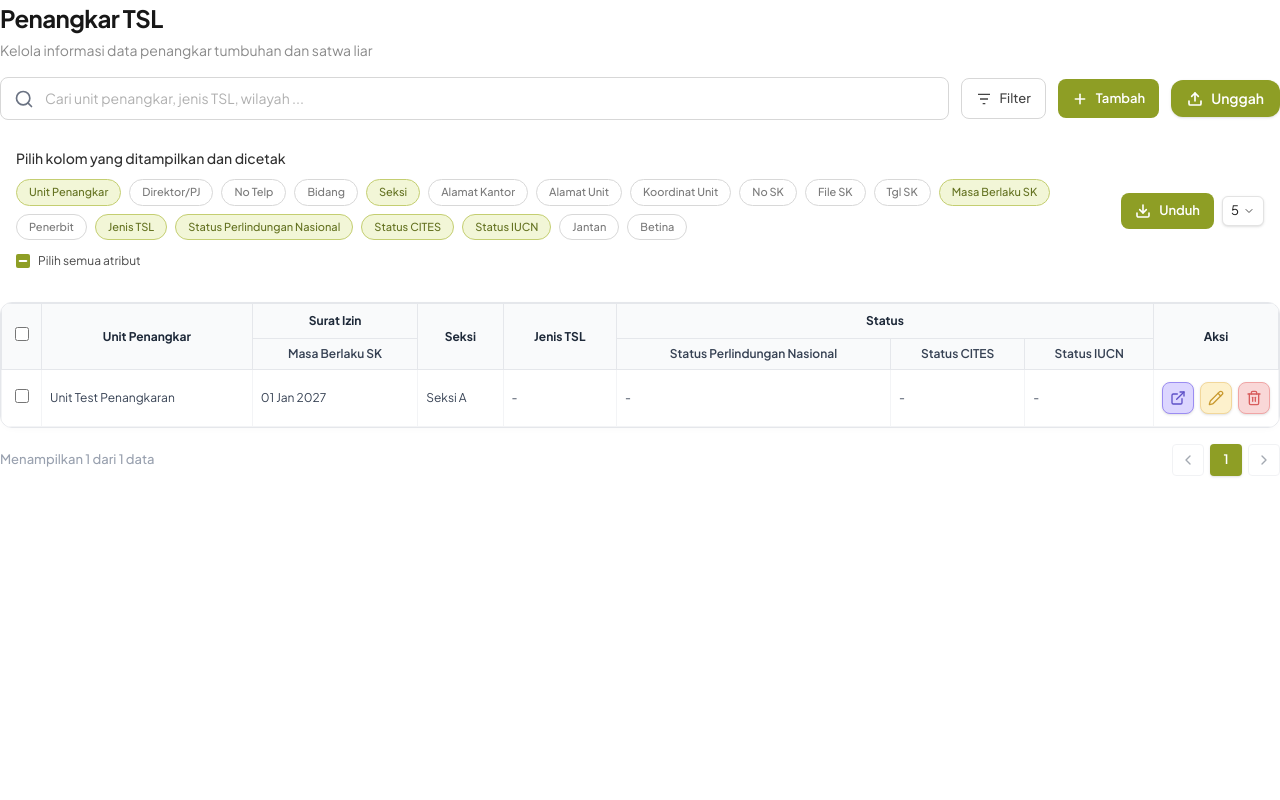
Scenario: Penangkaran Export Feature › membuka modal pratinjau saat tombol Unduh diklik
Expected: the text "Unit Test Penangkaran" is shown, [42,370,252,426]
Click the button "Unduh".
click(1168, 211)  # box [1121,193,1214,229]
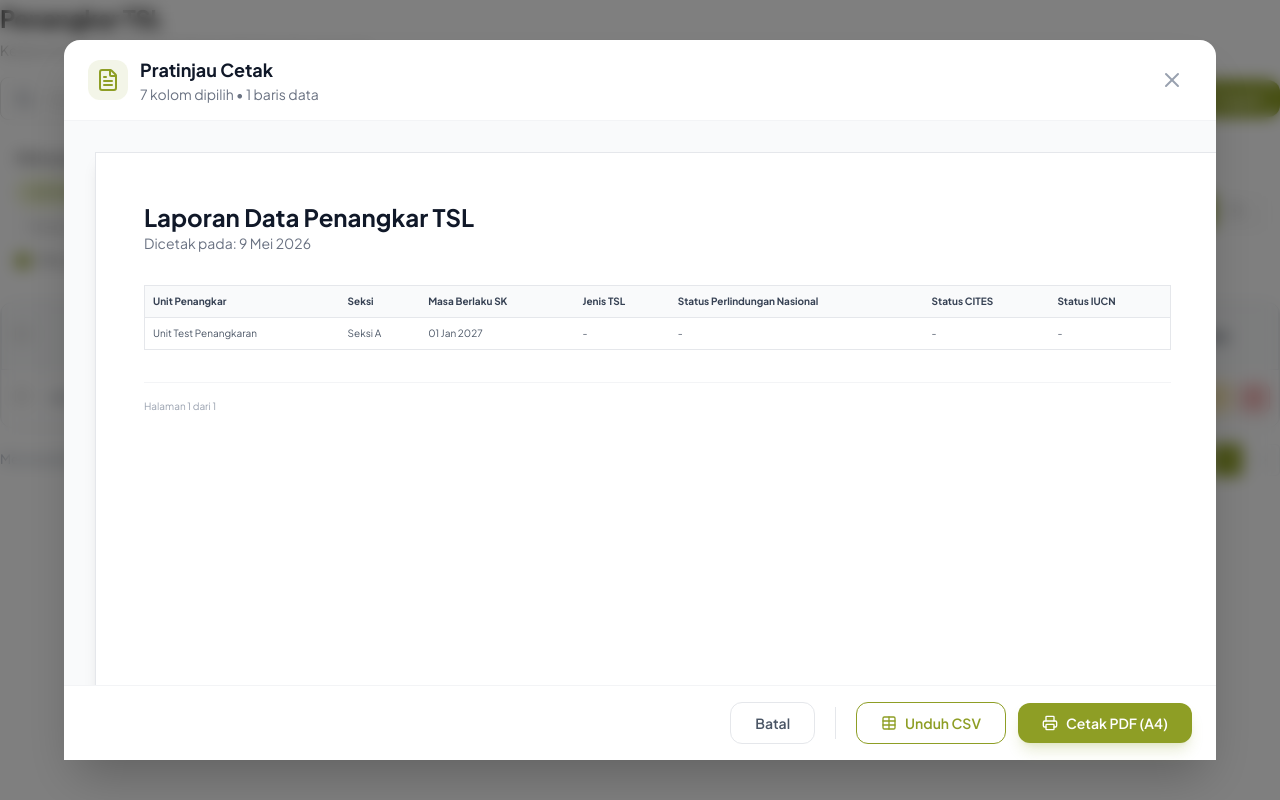
Result: the heading "Pratinjau Cetak" is shown at [140,58,273,81]
Result: the heading "Laporan Data Penangkar TSL" is shown at [144,202,474,232]
